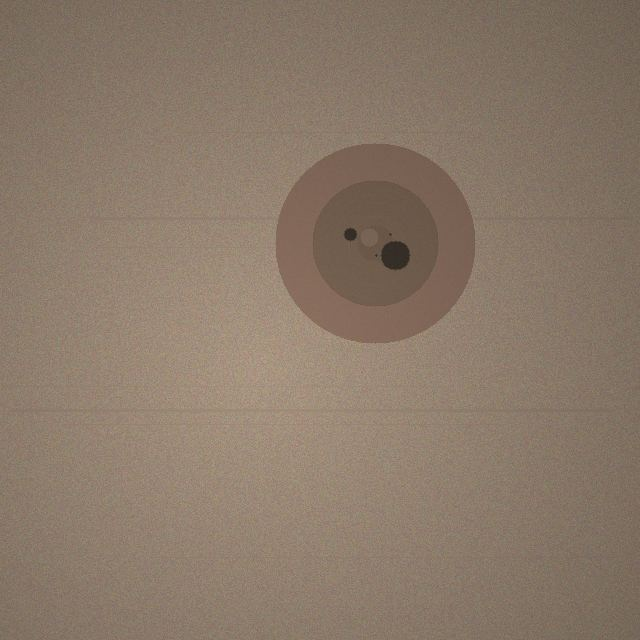shrinkage: (275, 143, 475, 343)
